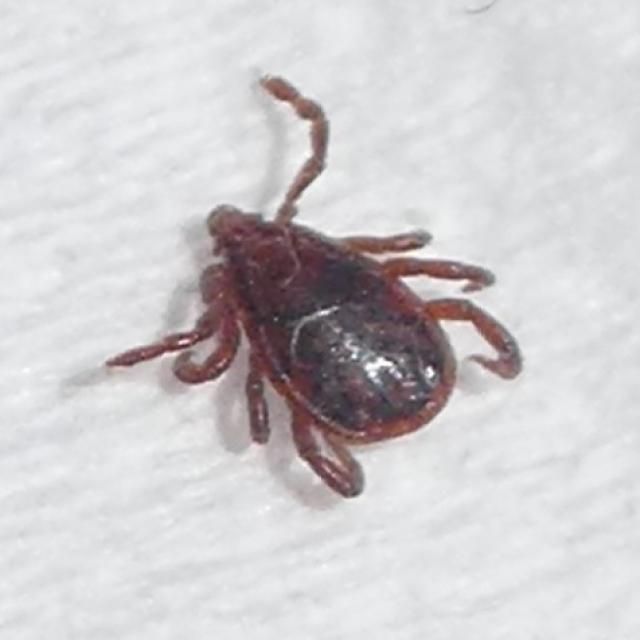Rhipicephalus Sanguineus-M: (102, 75, 523, 500)
